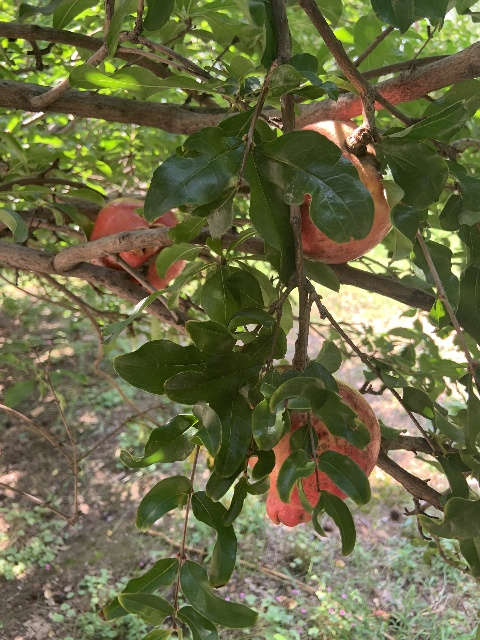ripe: (247, 377, 380, 526), (298, 120, 393, 263), (90, 197, 185, 294)
